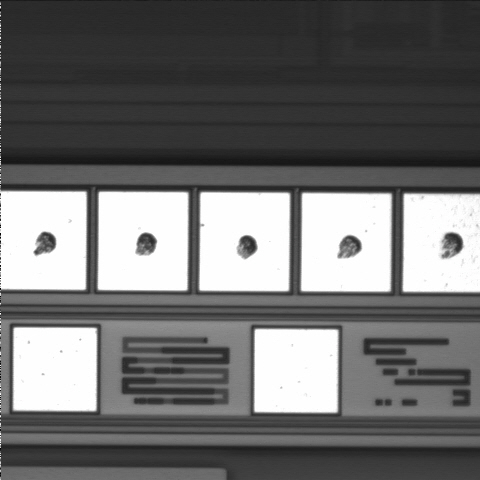pad: (199, 192, 290, 291), (98, 192, 188, 291), (301, 193, 391, 292), (13, 328, 97, 411), (254, 329, 338, 412)
